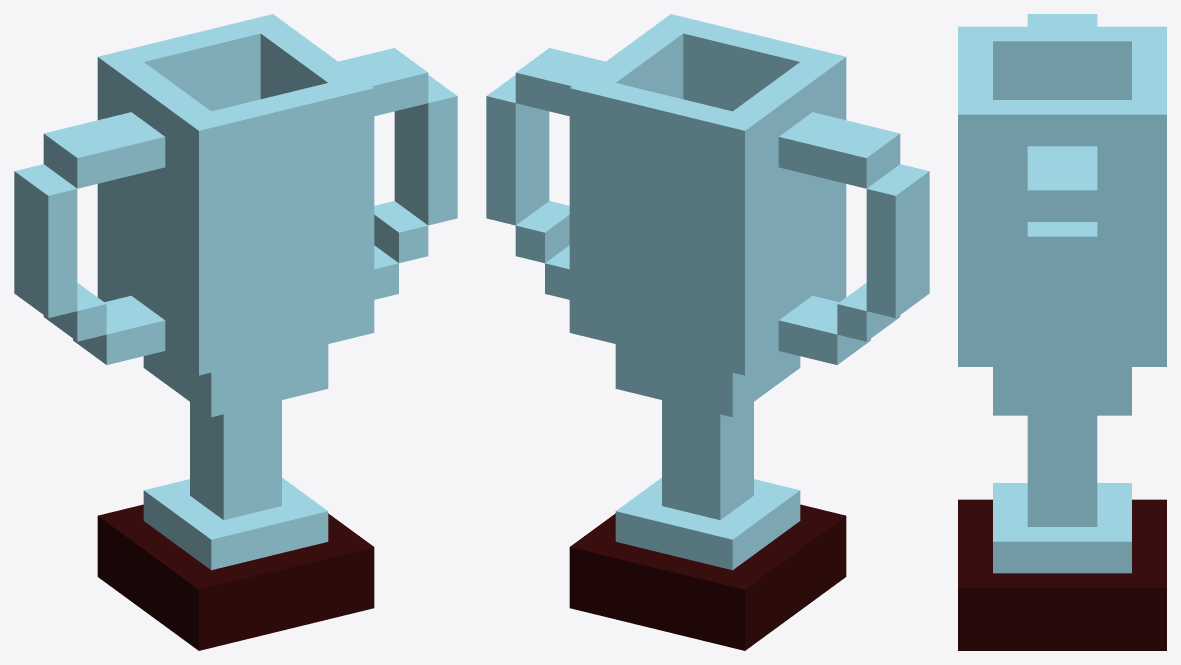
The model's file is Trophy-11.obj.
The picture shows the model from 3 angles, left to right: view 1: azimuth 30°, elevation 25°; view 2: azimuth 150°, elevation 25°; view 3: azimuth 270°, elevation 25°; orthographic projection. The views are drawn at different scales.
Parts seen in each view (by area): view 1: Trophy-11; view 2: Trophy-11; view 3: Trophy-11.
Part boxes in pixels (<box>): Trophy-11: <box>14,14,457,650</box>; Trophy-11: <box>486,14,929,650</box>; Trophy-11: <box>958,14,1166,650</box>.
Bounding box in the file's own units: 14 × 17 × 6.
Materials: 1 (1 with a texture image).
